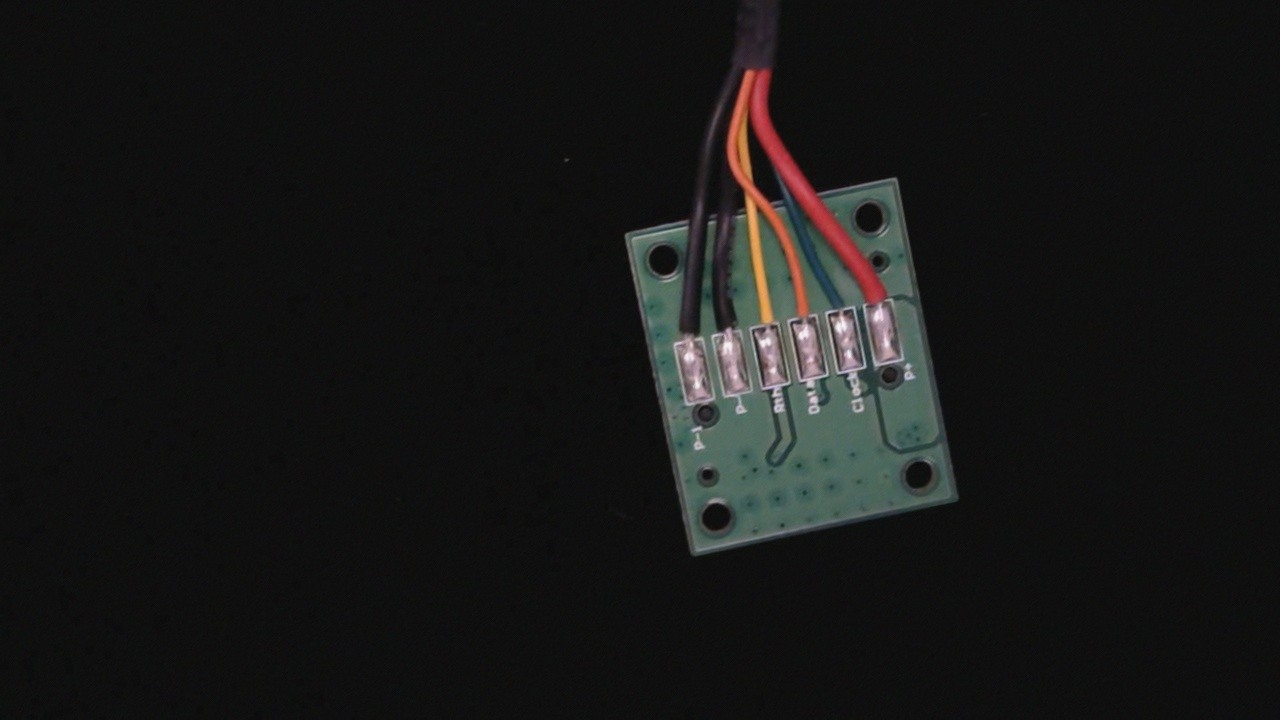Black: (700, 274, 747, 352)
Black1: (662, 288, 707, 360)
Green: (811, 258, 858, 333)
Orange: (774, 263, 819, 339)
Red: (850, 245, 897, 321)
Yellow: (735, 268, 783, 347)
